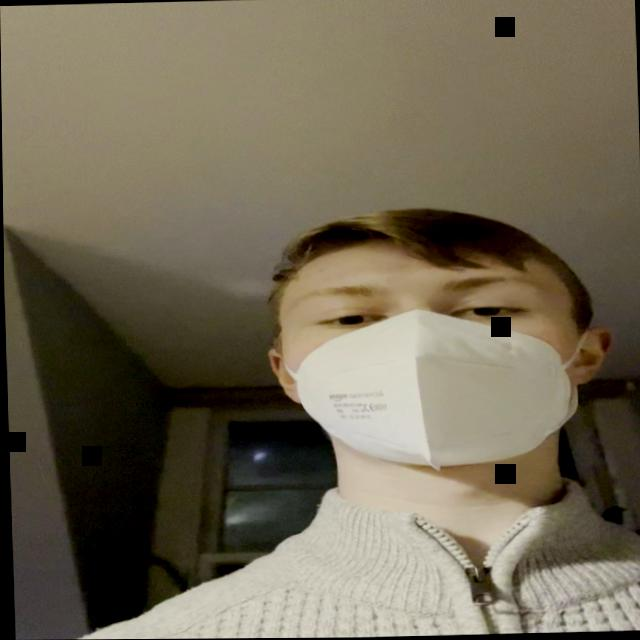Mask: (277, 234, 587, 471)
